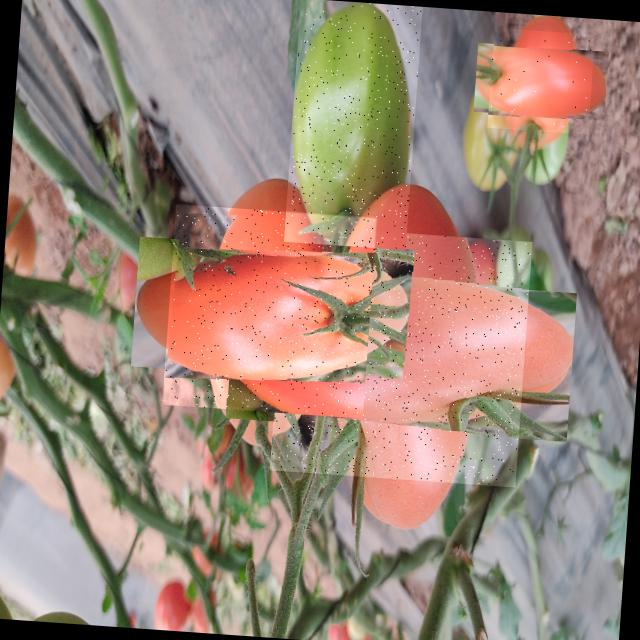Ripe Tomato: (269, 224, 532, 487), (162, 204, 376, 418), (486, 28, 594, 134)
Unripe Tomato: (283, 0, 422, 250)
